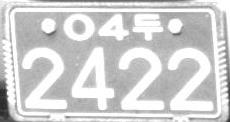0: (63, 13, 95, 41)
2: (167, 46, 214, 112), (119, 46, 165, 110), (21, 46, 67, 109)
4: (70, 47, 115, 110), (97, 12, 129, 42)
두: (132, 13, 163, 41)
